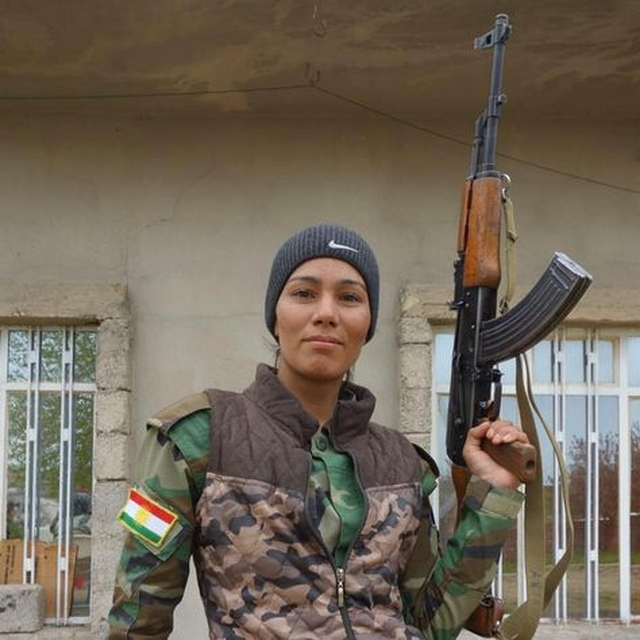AK47: (458, 9, 597, 486)
IBKY: (106, 483, 180, 547)
